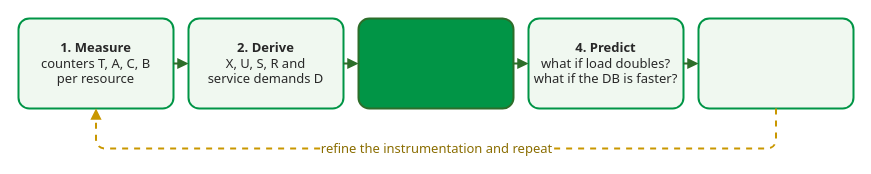
Image size: 871x174. Some labels were removed from this diagram. Each missing label, with the centre of its shape:
"3. Model operational laws, queuing model, MVA" goes at point 435,63.
"5. Validate compare the prediction with a new measurement" goes at point 775,63.
